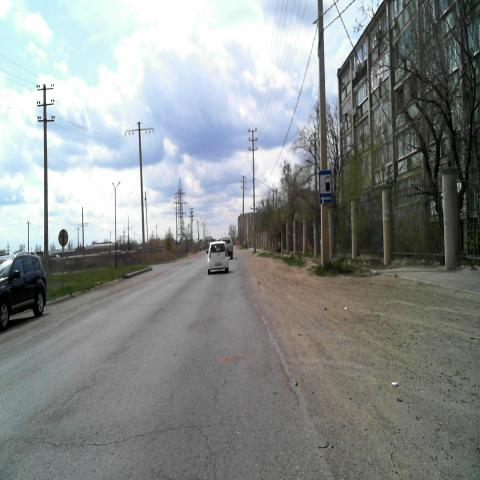7_3: (319, 171, 332, 204)
